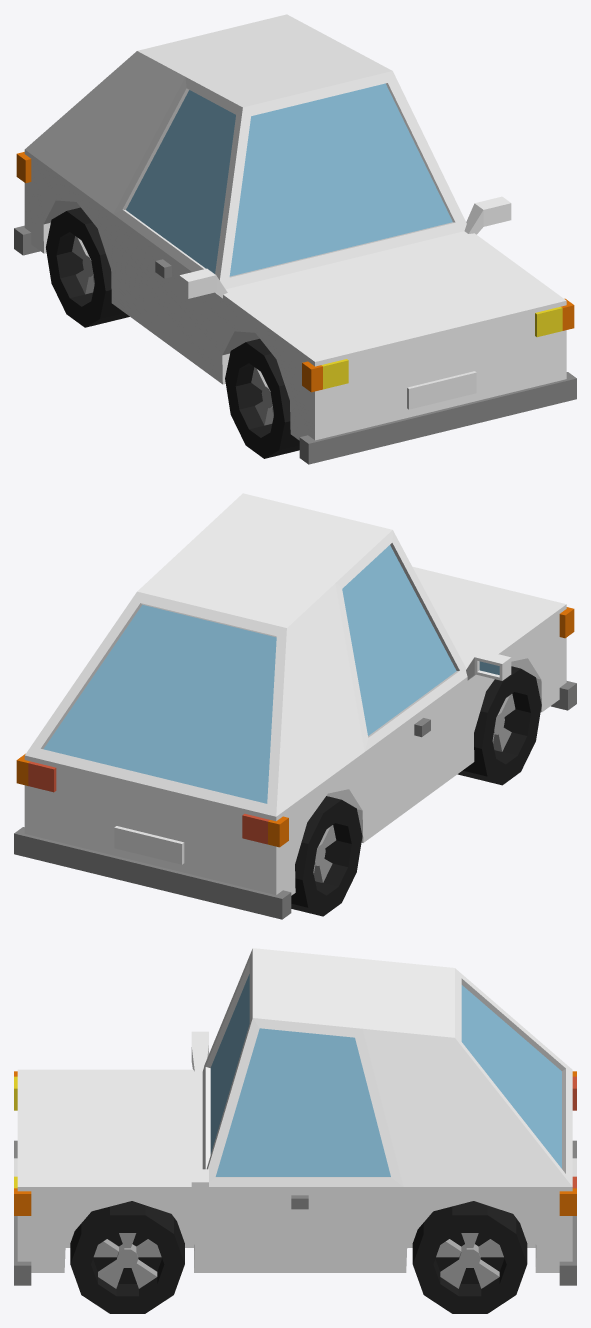
The model's file is car-lowpoly-3.fbx.
3 renders of one model, top to bottom at view 1: azimuth 30°, elevation 25°; view 2: azimuth 150°, elevation 25°; view 3: azimuth 270°, elevation 25°, orthographic. The views are drawn at different scales.
Visible parts, largest first — view 1: car-lowpoly-3; view 2: car-lowpoly-3; view 3: car-lowpoly-3.
Part boxes in pixels (x1,y1,x2,y2): car-lowpoly-3: [14, 14, 576, 464]; car-lowpoly-3: [14, 493, 576, 919]; car-lowpoly-3: [14, 948, 576, 1313].
Bounding box in the file's own units: 257 × 216 × 406.
